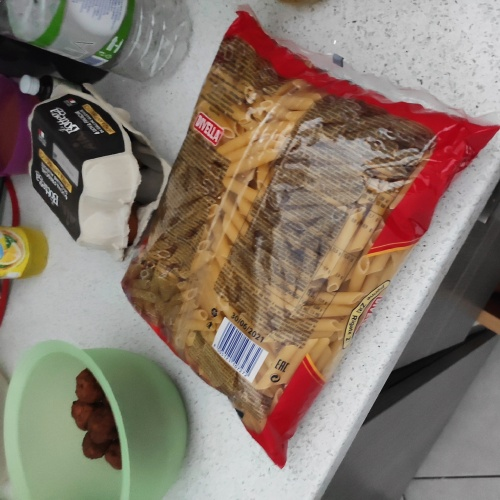pasta: (161, 23, 445, 383)
